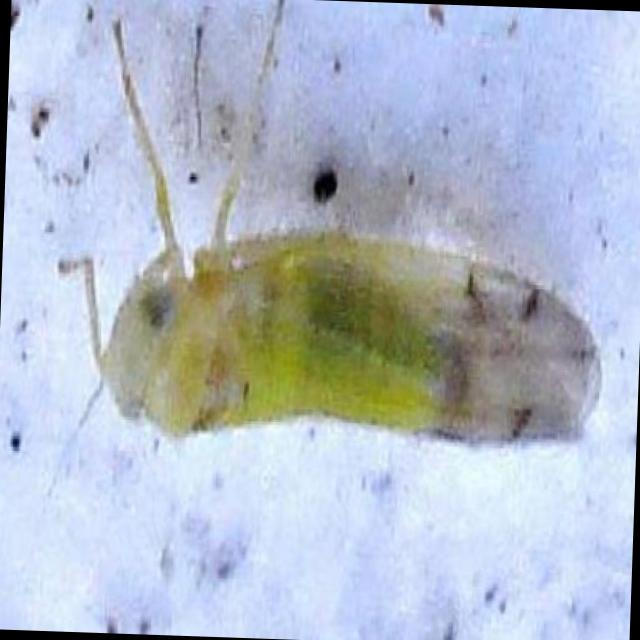green-leafhopper: (70, 150, 604, 459)
